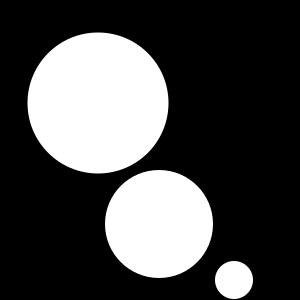rectangle: (28, 32, 168, 174), (105, 170, 213, 278), (215, 261, 253, 299)
